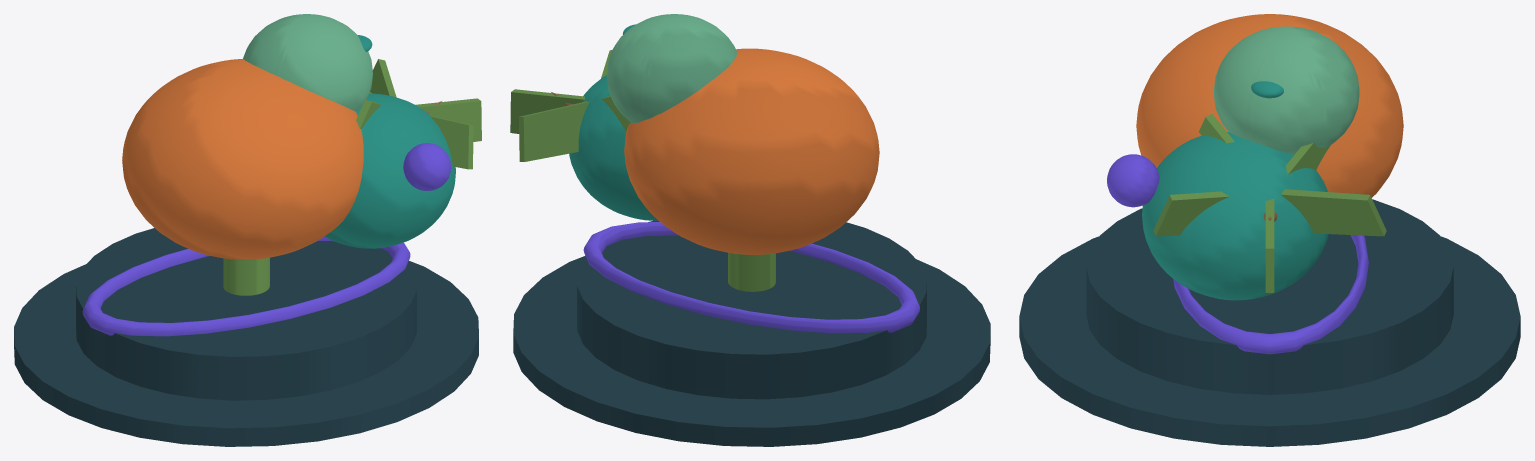
Rendered from 0102_植物图鉴_肾蕨.glb.
The picture shows the model from 3 angles, left to right: view 1: azimuth 30°, elevation 25°; view 2: azimuth 150°, elevation 25°; view 3: azimuth 270°, elevation 25°; orthographic projection. The views are drawn at different scales.
Visible parts, largest first — view 1: card_0102; view 2: card_0102; view 3: card_0102.
Boxes of the visible parts, <box> form: card_0102: <box>14,14,481,446</box>; card_0102: <box>510,14,990,446</box>; card_0102: <box>1019,14,1520,446</box>.
Size of the model in its own units: 1.49 by 1 by 1.34.
